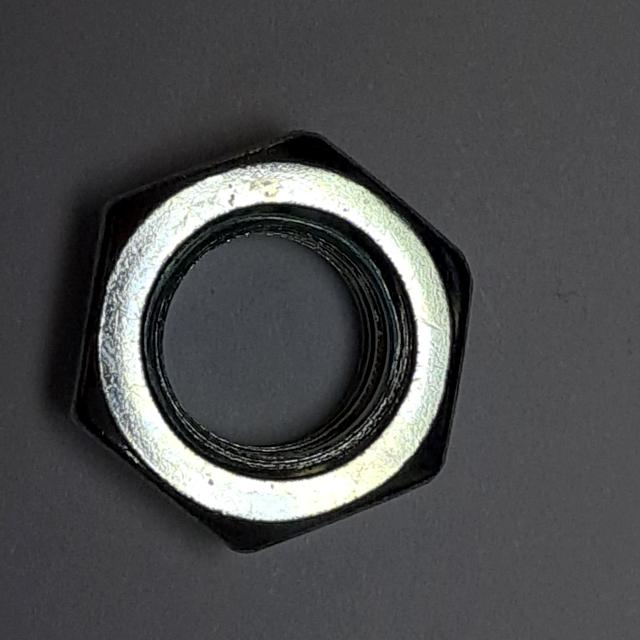Excellent: (60, 122, 482, 566)
